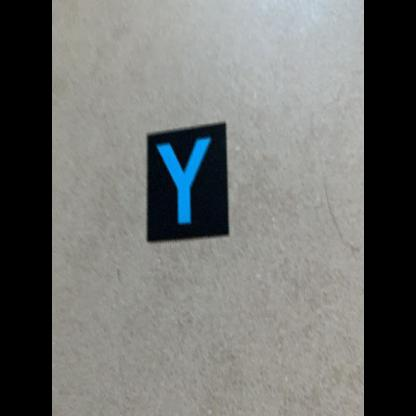y: (144, 122, 231, 244)
